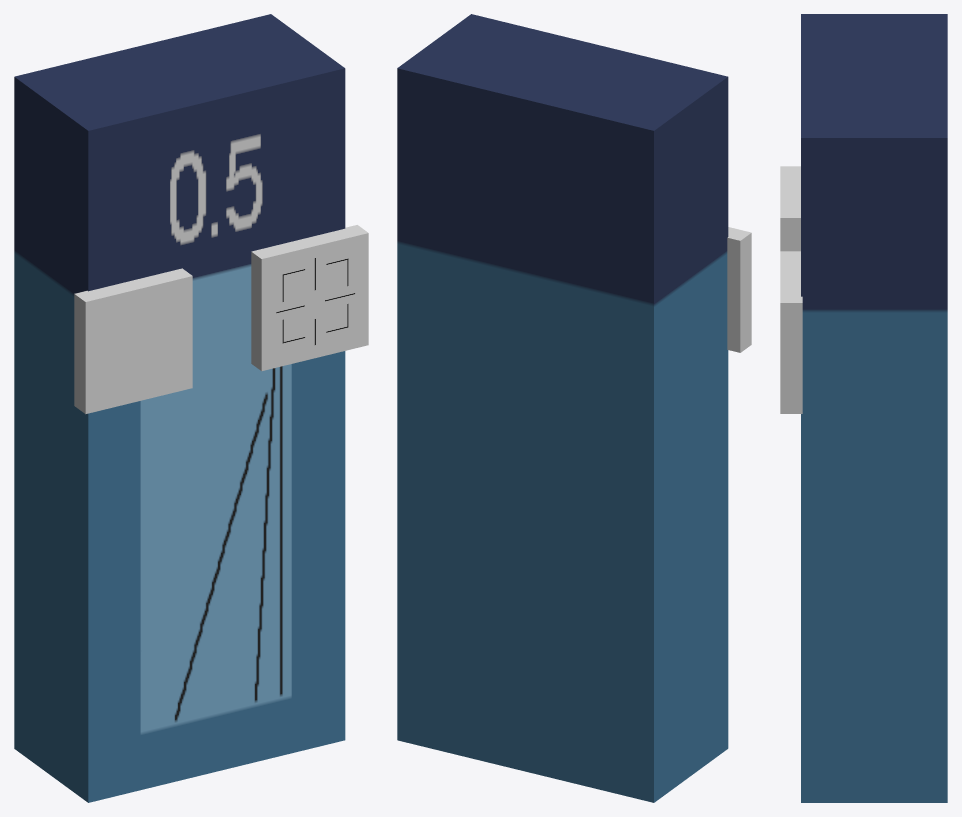
File: lead.obj
3 renders of one model, left to right at view 1: azimuth 30°, elevation 25°; view 2: azimuth 150°, elevation 25°; view 3: azimuth 270°, elevation 25°, orthographic.
Parts seen in each view (by area): view 1: 立方体.006; view 2: 立方体.006; view 3: 立方体.006.
Part boxes in pixels (x1,y1,x2,y2): 立方体.006: (14, 14, 368, 802); 立方体.006: (397, 14, 751, 802); 立方体.006: (780, 14, 947, 802).
Size of the model in its own units: 0.8819 by 2 by 0.4561.
1 material, 1 textured.
